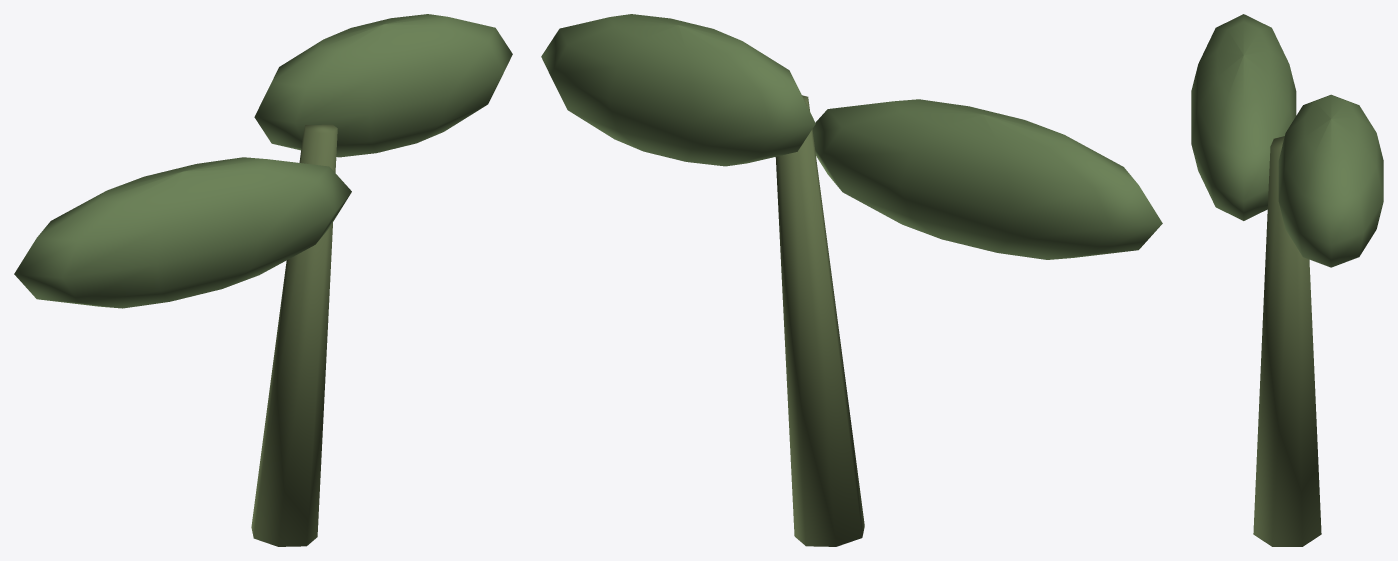
The model's file is Sprout_3.glb.
3 views of the same model, side by side, from view 1: azimuth 30°, elevation 25°; view 2: azimuth 150°, elevation 25°; view 3: azimuth 270°, elevation 25° (orthographic). The views are drawn at different scales.
Visible parts, largest first — view 1: b612__Sprout_3__plant; view 2: b612__Sprout_3__plant; view 3: b612__Sprout_3__plant.
Boxes of the visible parts, box(x1,y1,x2,y2) form: b612__Sprout_3__plant: box(14, 14, 512, 546); b612__Sprout_3__plant: box(541, 14, 1162, 546); b612__Sprout_3__plant: box(1191, 14, 1383, 546).
Size of the model in its own units: 0.218 by 0.18 by 0.0661.
